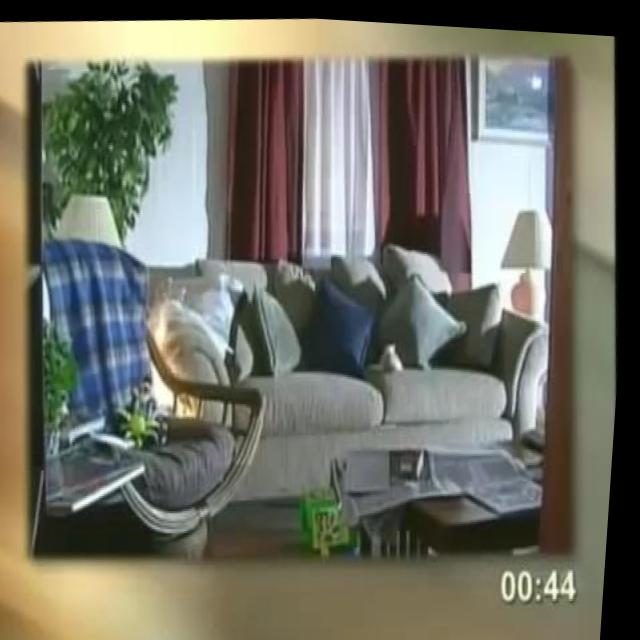fire: (143, 284, 209, 420)
